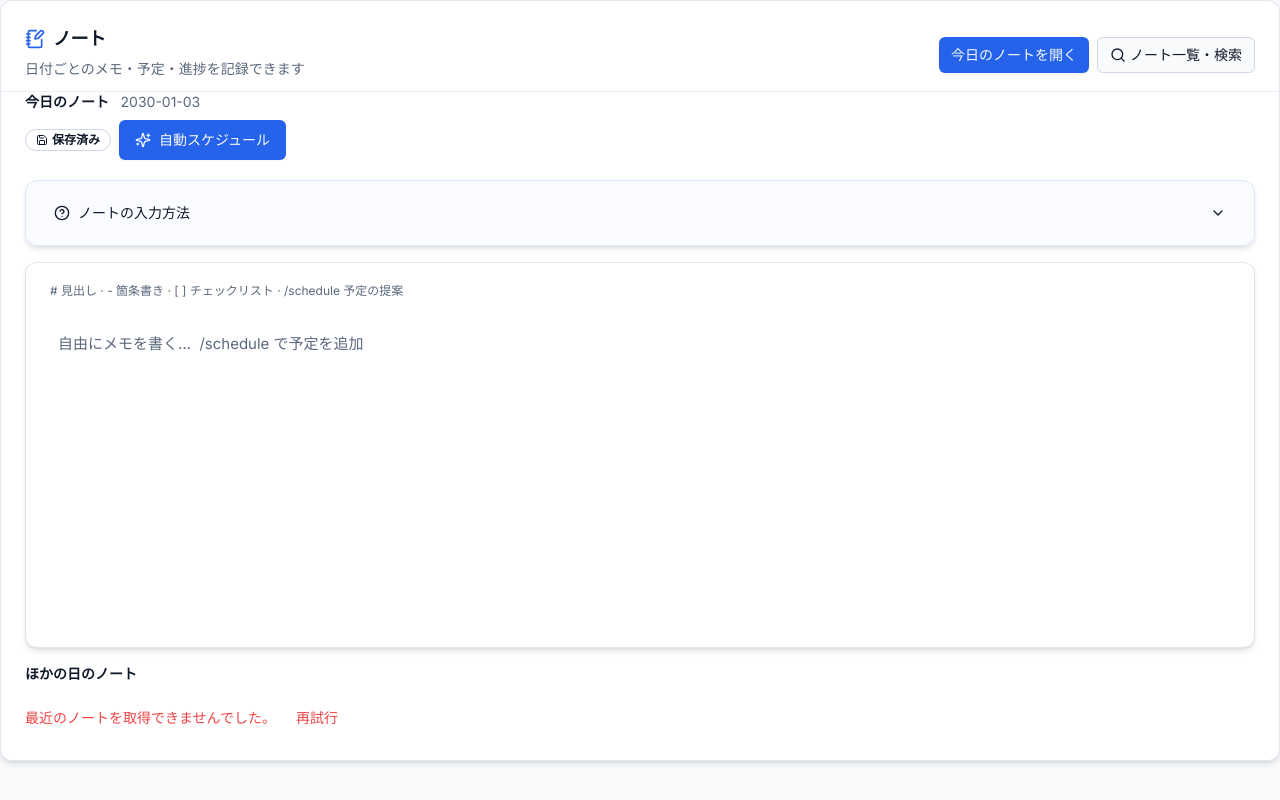
Test: keeps notebook navigation available if previews fail and supports retry
expect the text "最近のノートを取得できませんでした。" is shown: met, box [25,709,276,726]
expect the link "ノート一覧・検索" is shown: met, box [1097,37,1255,73]
Click the button "再試行" at [317, 718], box [284,700,350,736]
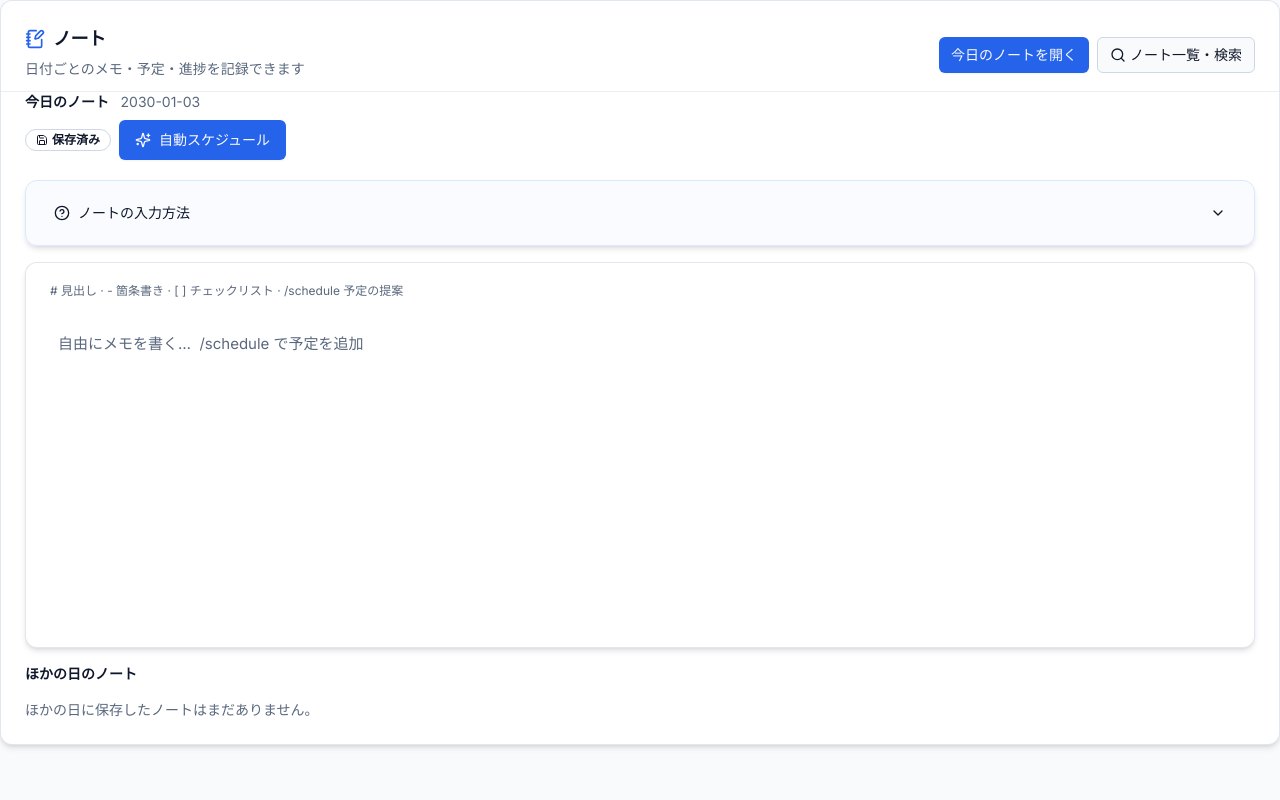
expect the text "ほかの日に保存したノートはまだありません。" is shown: met, box [25,701,319,718]
